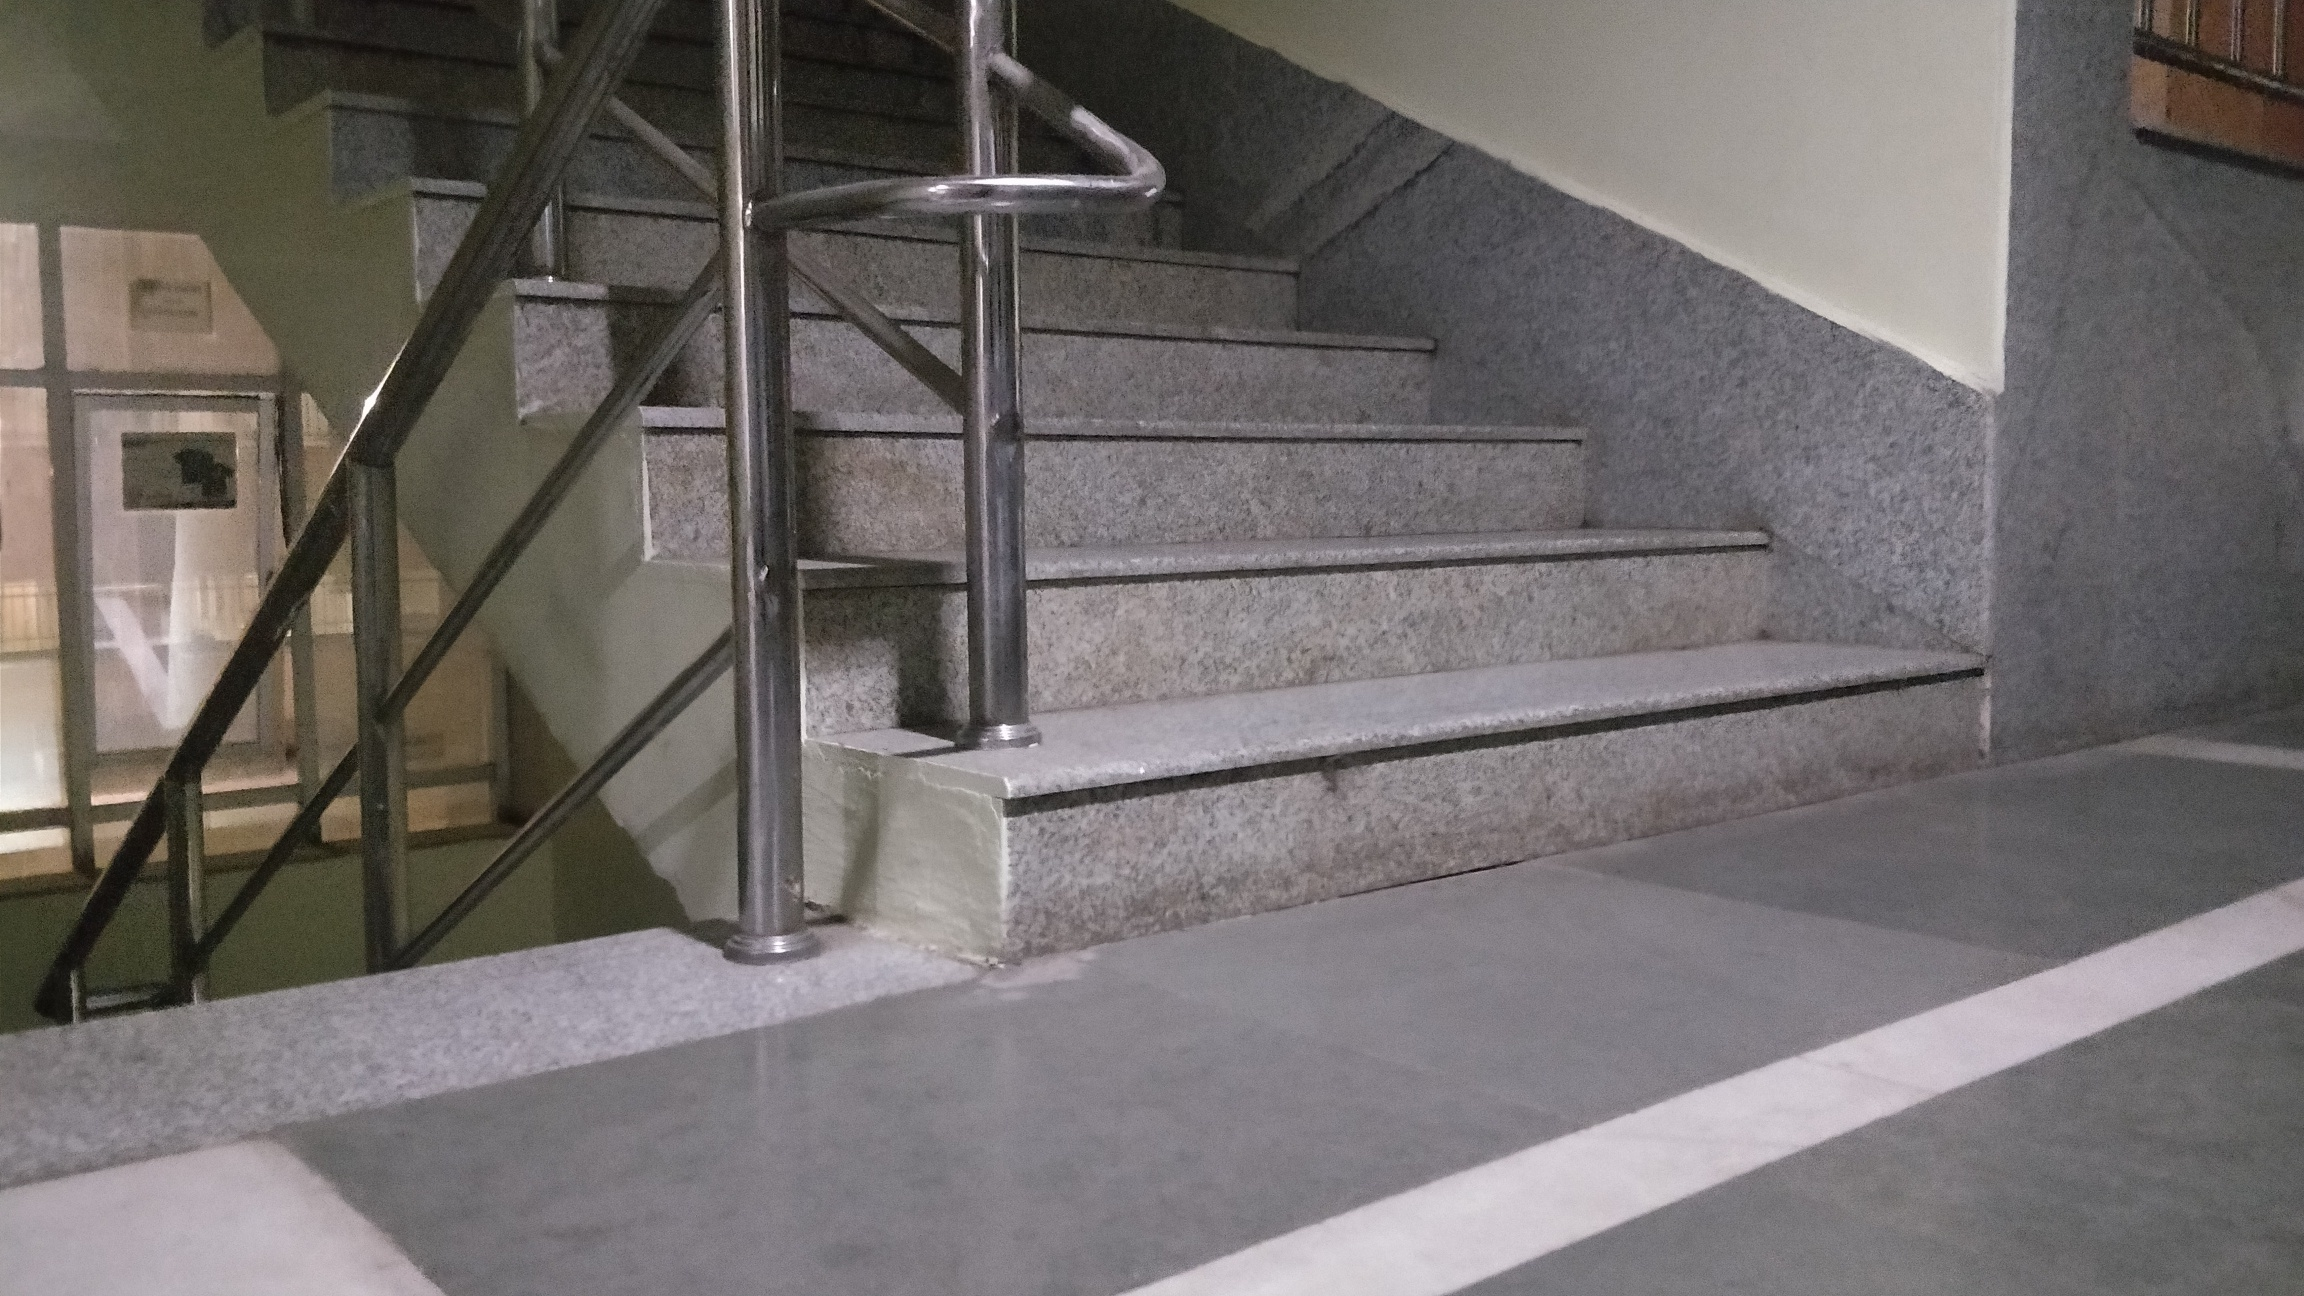stairs_up: (540, 16, 1976, 847)
